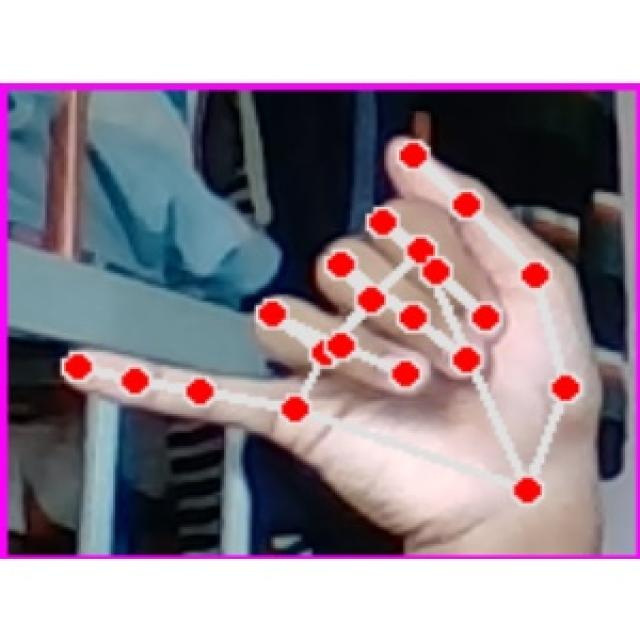J: (49, 120, 624, 538)
